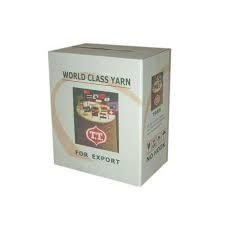Cardboard: (28, 27, 188, 195)
